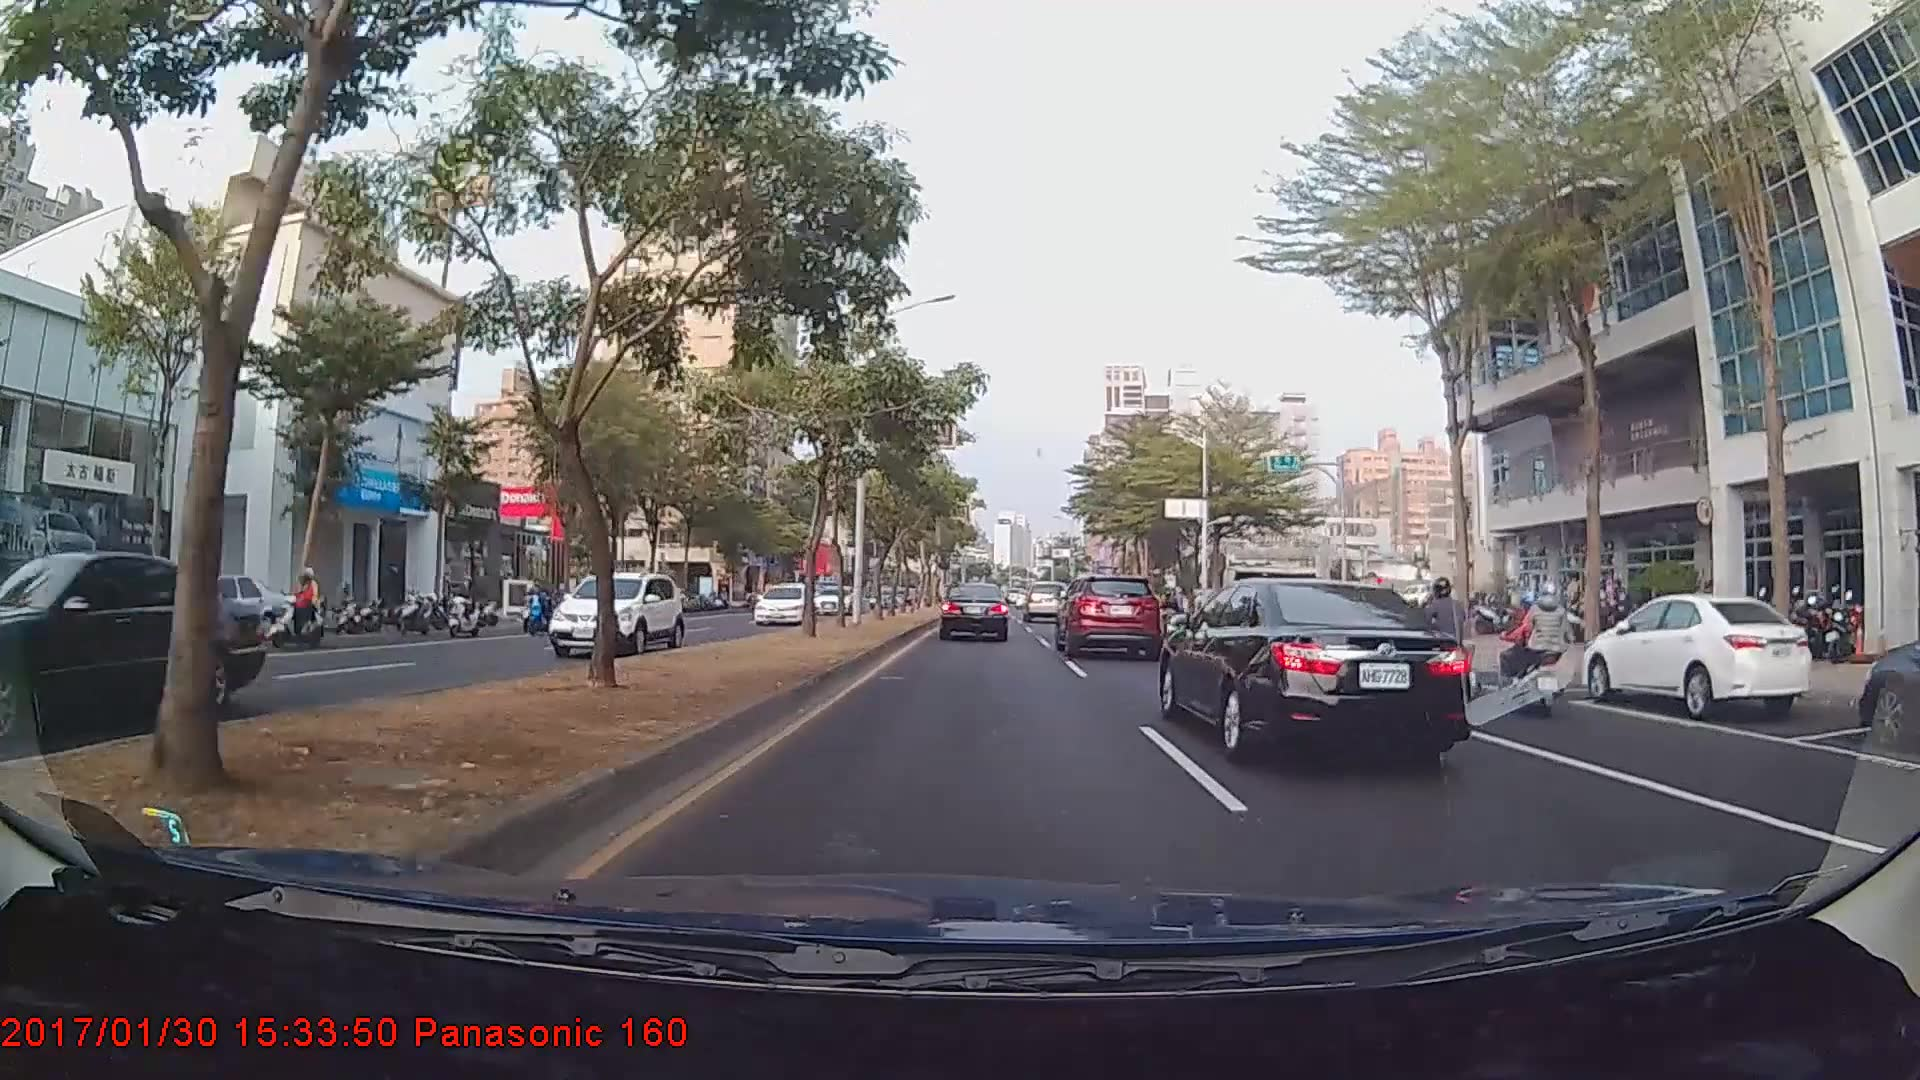rider: (1393, 572, 1480, 724), (1482, 578, 1575, 718), (269, 566, 329, 654)
vehicle: (1162, 567, 1459, 768), (0, 547, 261, 752), (1596, 588, 1813, 718), (545, 571, 685, 657), (145, 574, 286, 646), (1854, 595, 1920, 749), (1058, 573, 1161, 658), (939, 582, 1009, 642), (751, 584, 815, 626), (810, 585, 859, 615), (1025, 581, 1059, 621)
